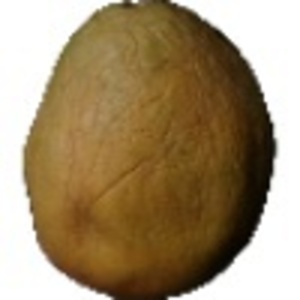mamão: (14, 5, 277, 295)
